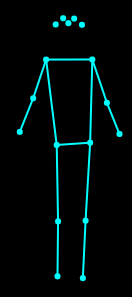mountain: (12, 10, 124, 284)
